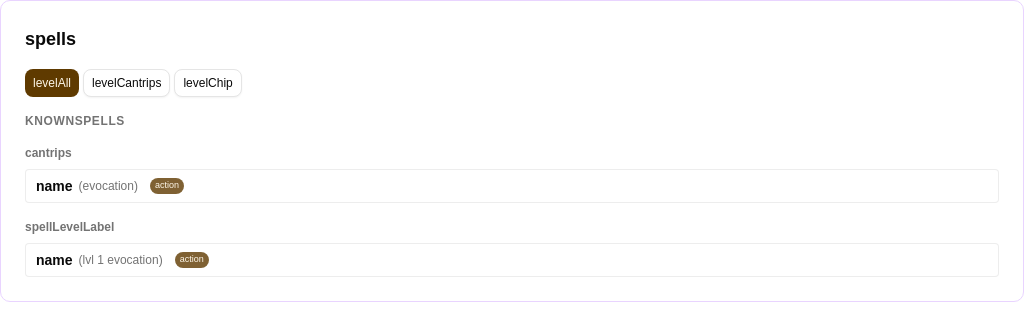
Scenario: SpellcastingPanel › level chips › filters the list to the chosen level
Expected: the text "name" is shown 2 times, [36,176,73,196]; [36,250,73,270]
Click the tab "levelCantrips".
click(127, 83)  # box [83,69,170,97]
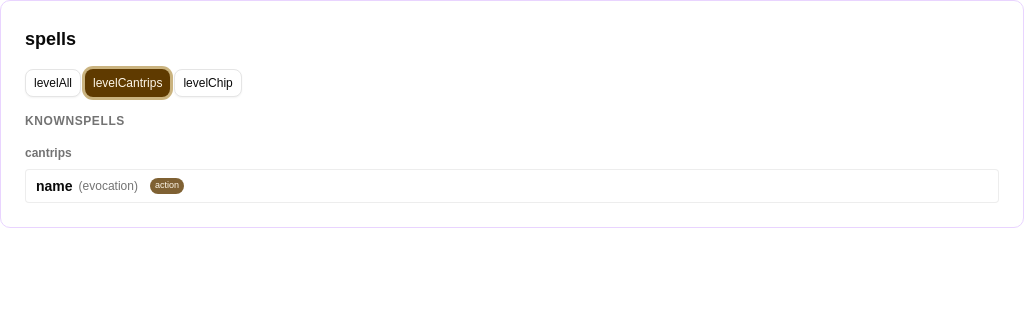
Now the text "name" is shown once, box [36,176,73,196]
Now the text "spellLevelLabel" is gone
Click the tab "levelAll".
click(53, 83)  # box [25,69,81,97]
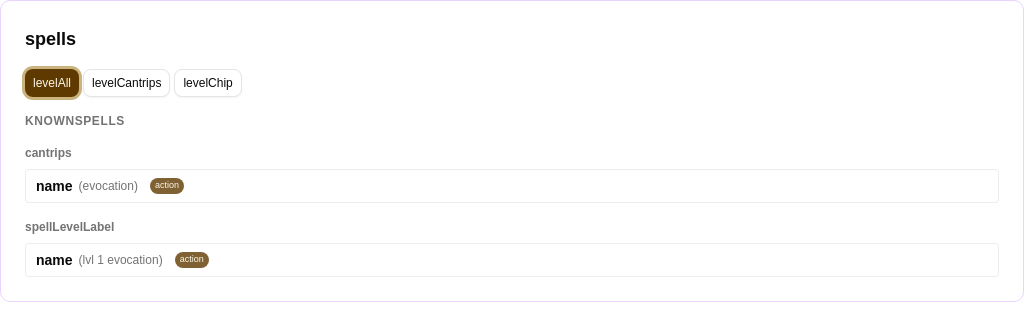
Now the text "name" is shown 2 times, box [36,176,73,196]; [36,250,73,270]
